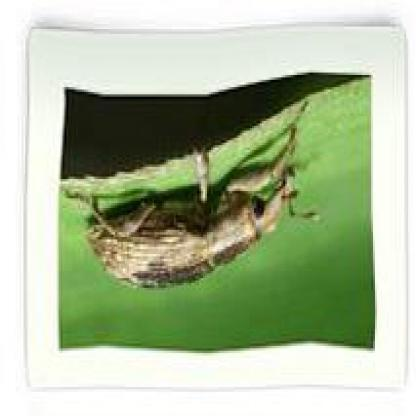rice-bug: (91, 129, 302, 292)
